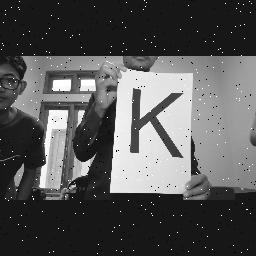k: (123, 82, 187, 162)
